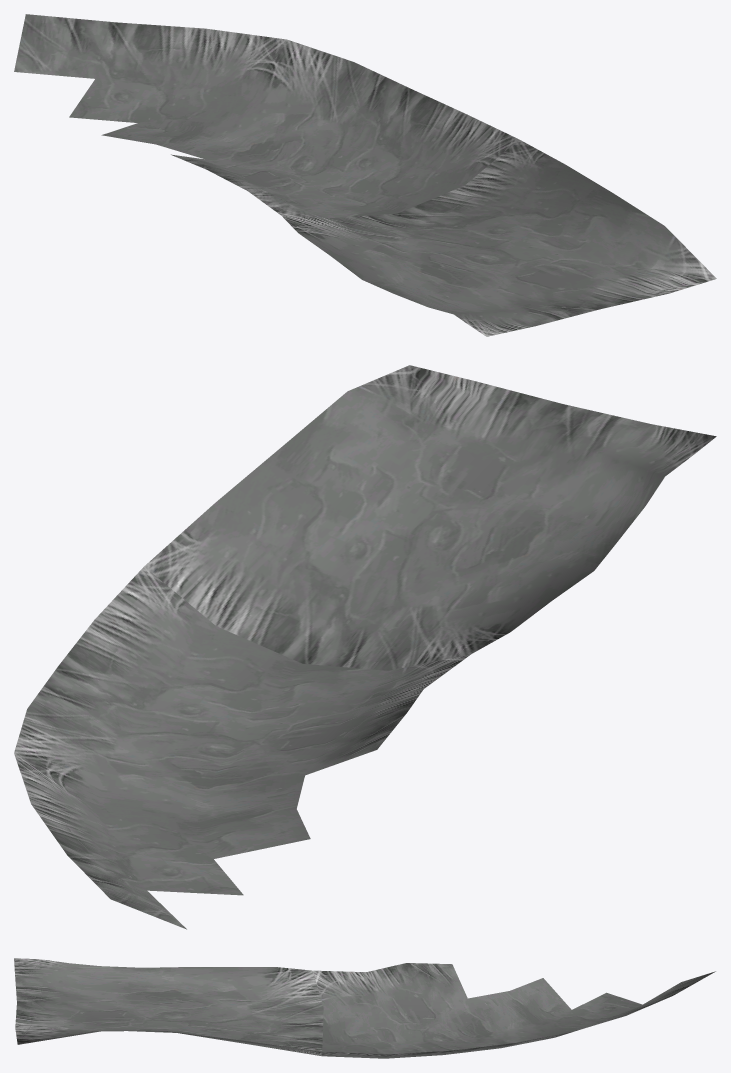
Rendered from SWORDLIGHT20_PS-AREA01_17.fbx.
The picture shows the model from 3 angles, top to bottom: view 1: azimuth 30°, elevation 25°; view 2: azimuth 150°, elevation 25°; view 3: azimuth 270°, elevation 25°; orthographic projection. The views are drawn at different scales.
Visible parts, largest first — view 1: SWORDLIGHT20_PS-AREA01_17; view 2: SWORDLIGHT20_PS-AREA01_17; view 3: SWORDLIGHT20_PS-AREA01_17.
Boxes of the visible parts, x1=… form: SWORDLIGHT20_PS-AREA01_17: x1=14, y1=14, x2=716, y2=336; SWORDLIGHT20_PS-AREA01_17: x1=14, y1=365, x2=716, y2=929; SWORDLIGHT20_PS-AREA01_17: x1=14, y1=958, x2=715, y2=1058.
Size of the model in its own units: 60910 by 16152 by 178825.
Materials: 2 (2 with a texture image).
